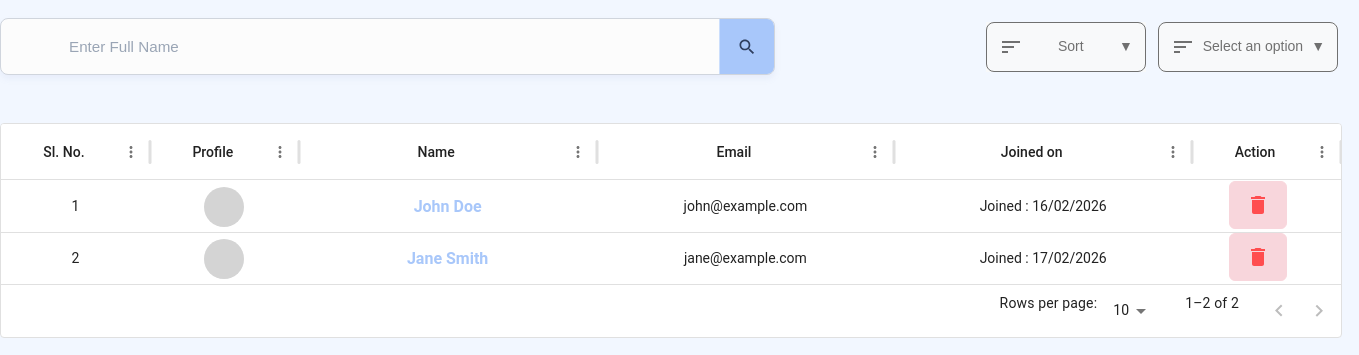
Test case: OrganizationPeople › handles search functionality correctly
Check: the link "John Doe" is shown, box left=414, top=197, right=482, bottom=216
Search for "Jane"
Type "Jane" into the search field with test id "member-search-input" at (352, 46), box left=21, top=38, right=683, bottom=55
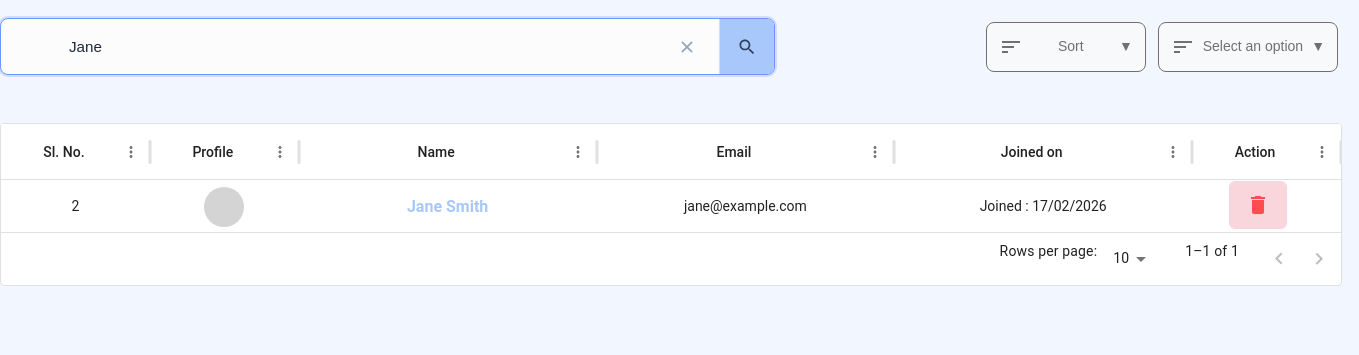
Check: the link "Jane Smith" is shown, box left=407, top=197, right=488, bottom=216
Check: the link "John Doe" is gone
Clear search
Clear the search field with test id "member-search-input" at (352, 46), box left=21, top=38, right=683, bottom=55
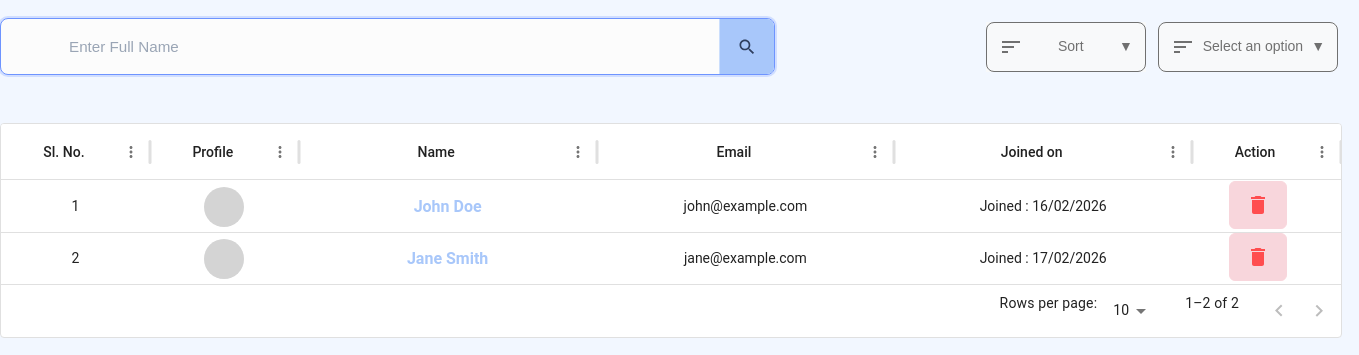
Check: the link "Jane Smith" is shown, box left=407, top=249, right=488, bottom=268
Check: the link "John Doe" is shown, box left=414, top=197, right=482, bottom=216
